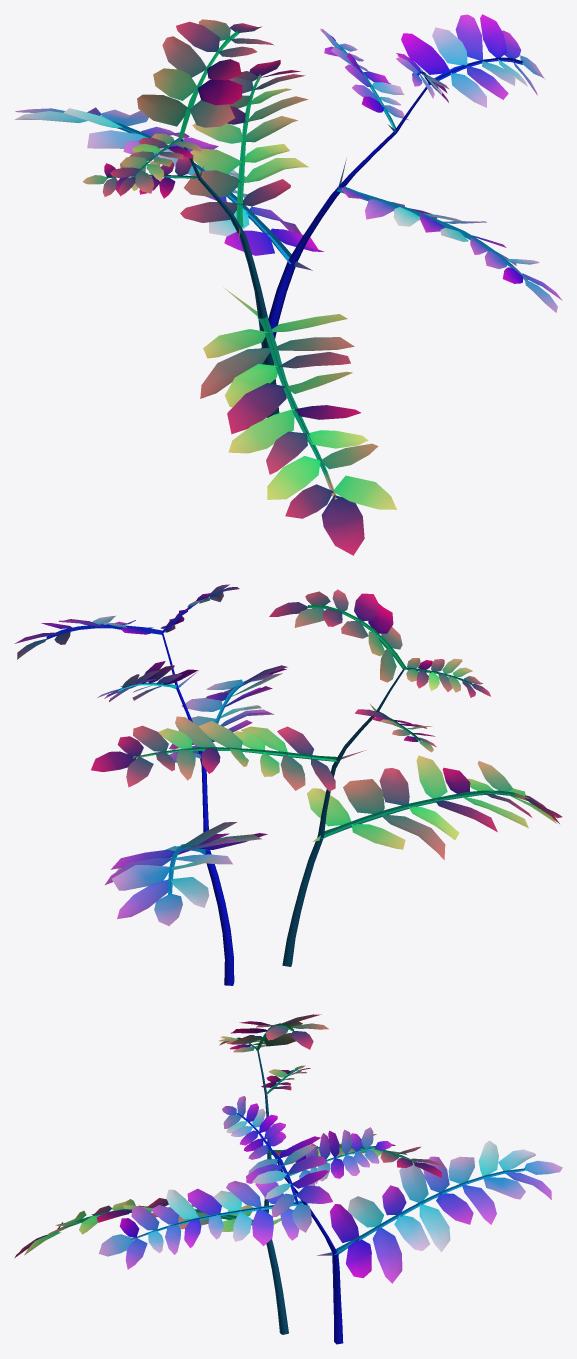
The model's file is Black_Locust_wdvhberja_Mid_wdvhberja_VarF_LOD0.fbx.
3 views of the same model, one above another, from view 1: azimuth 30°, elevation 25°; view 2: azimuth 150°, elevation 25°; view 3: azimuth 270°, elevation 25° (orthographic). The views are drawn at different scales.
Parts seen in each view (by area): view 1: _4s3j_VarF_LOD1; view 2: _4s3j_VarF_LOD1; view 3: _4s3j_VarF_LOD1.
Boxes of the visible parts, left/top/right/bottom form: _4s3j_VarF_LOD1: left=14, top=14, right=562, bottom=555; _4s3j_VarF_LOD1: left=14, top=584, right=562, bottom=985; _4s3j_VarF_LOD1: left=14, top=1014, right=562, bottom=1344.
Bounding box in the file's own units: 20.46 × 17.17 × 28.69.
